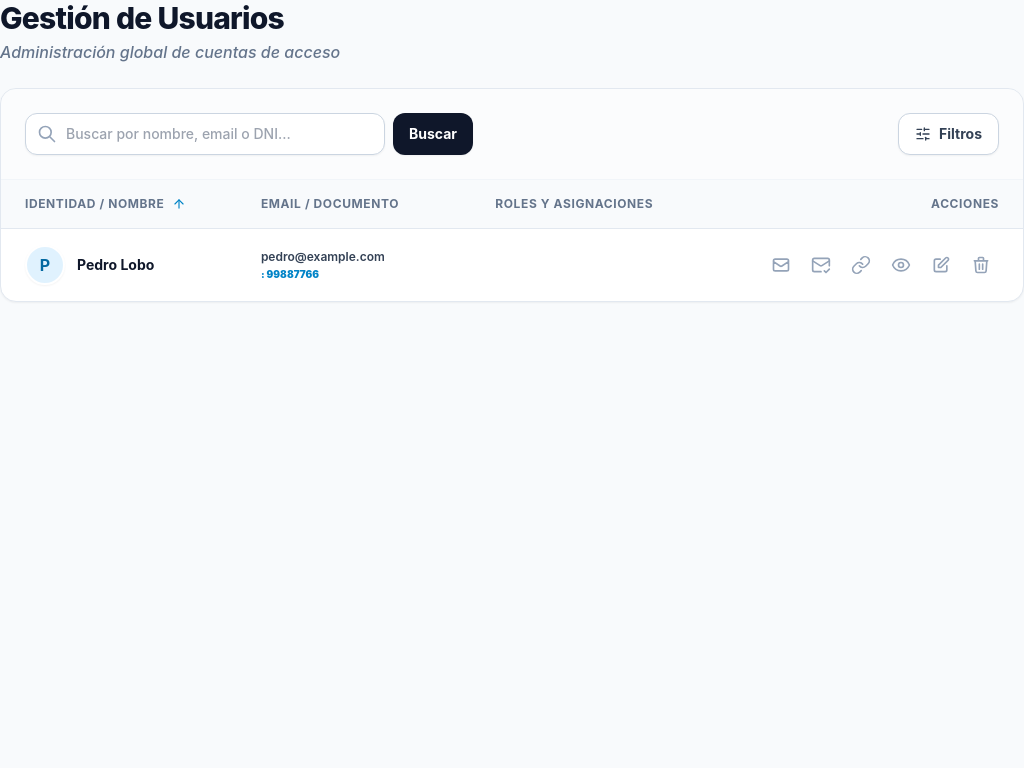
it: UserManagement › deshabilita el botón Guardar Cambios al abrir el modal sin modificaciones y lo habilita al editar un campo
This screenshot has width=1024, height=768.
Expected: the text "Pedro Lobo" is shown, [77,255,154,275]
# Abrir el modal de edición
Click the button titled "Editar Información" at {"x": 941, "y": 265}, box [923,247,959,283]
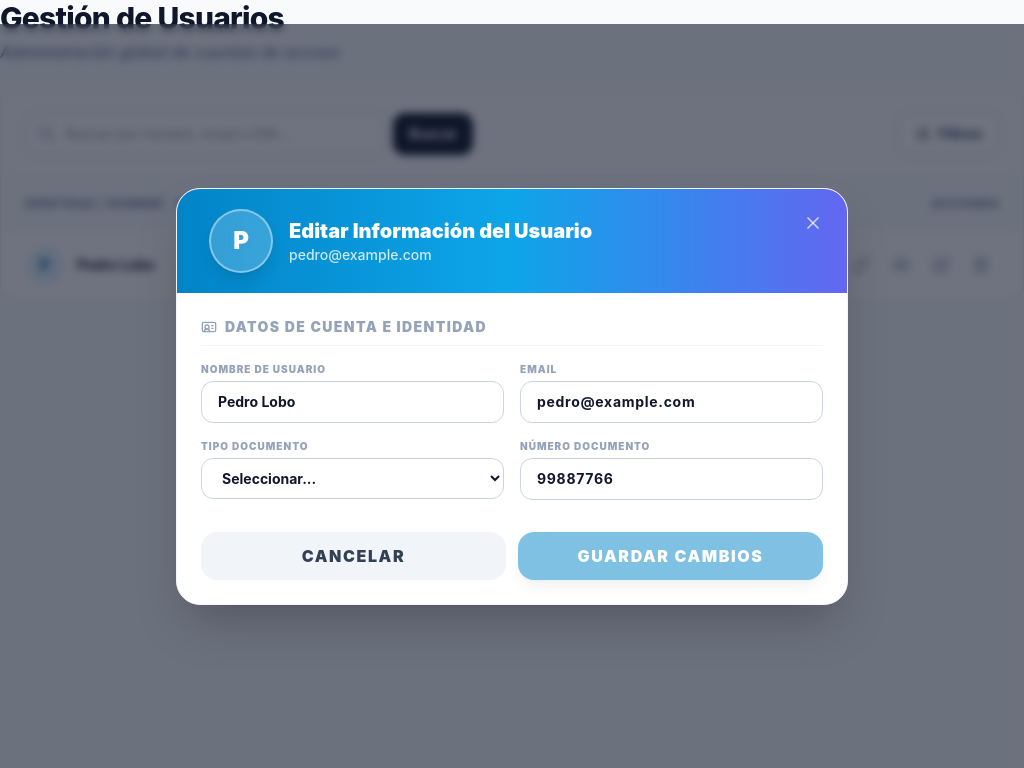
Result: the button "Guardar Cambios" is disabled at [518,532,823,580]
# Modificar el nombre
Replace the text in the field showing "Pedro Lobo" below "Nombre de Usuario" with "Pedro Lobo Editado" at {"x": 352, "y": 402}, box [201,380,504,422]
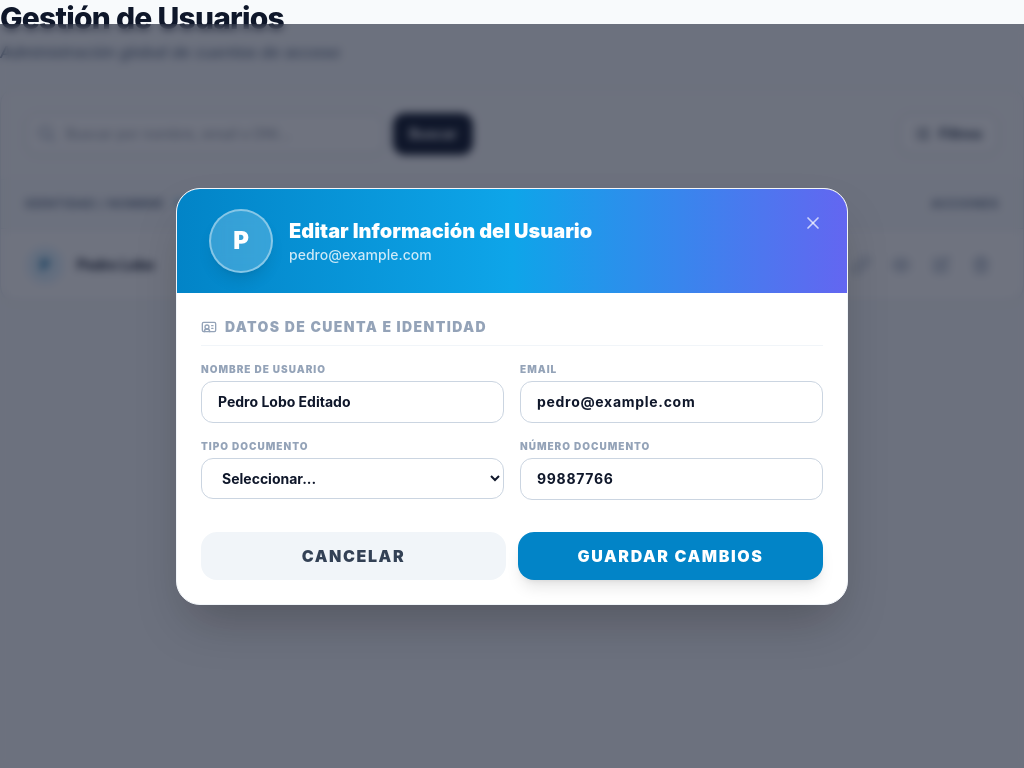
Result: the button "Guardar Cambios" is enabled at [518,532,823,580]
